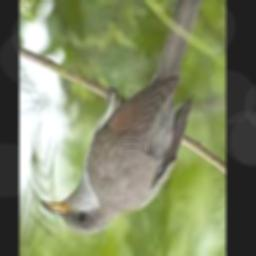Cuckoo: (42, 0, 204, 235)
